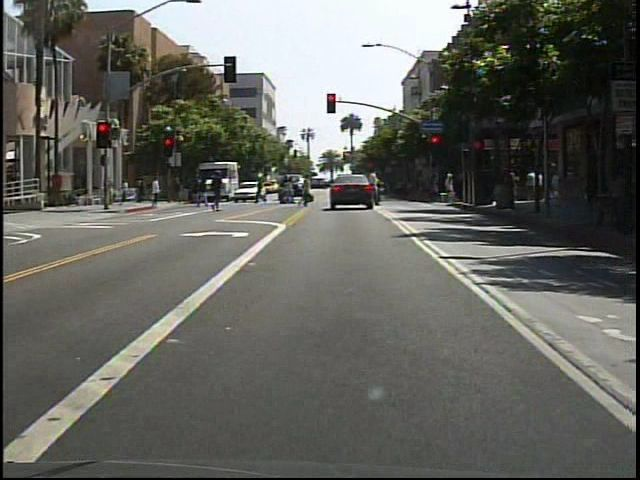person: (359, 164, 386, 210), (211, 170, 231, 215), (300, 173, 319, 212), (151, 175, 168, 211)
